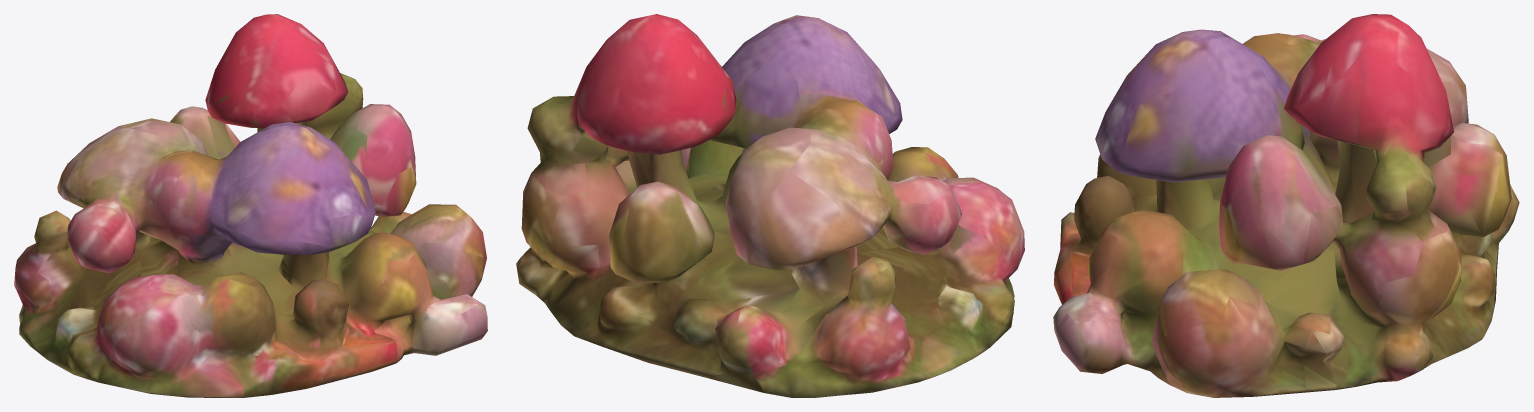
File: CF_CandyPile.fbx
3 renders of one model, left to right at view 1: azimuth 30°, elevation 25°; view 2: azimuth 150°, elevation 25°; view 3: azimuth 270°, elevation 25°, orthographic. The views are drawn at different scales.
Parts seen in each view (by area): view 1: CF_CandyPile; view 2: CF_CandyPile; view 3: CF_CandyPile.
Part boxes in pixels (x1=…): CF_CandyPile: x1=14, y1=14, x2=487, y2=397; CF_CandyPile: x1=516, y1=14, x2=1024, y2=397; CF_CandyPile: x1=1053, y1=14, x2=1519, y2=397.
Size of the model in its own units: 5 by 3.07 by 4.17.
